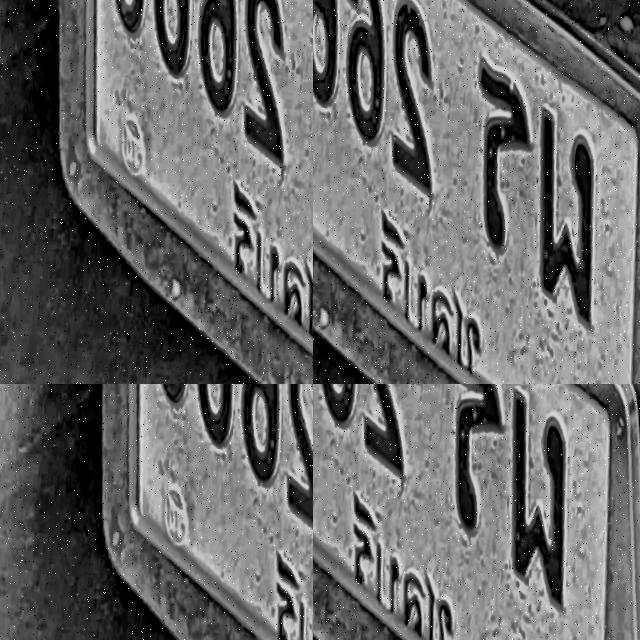license-plate: (313, 384, 640, 640)
